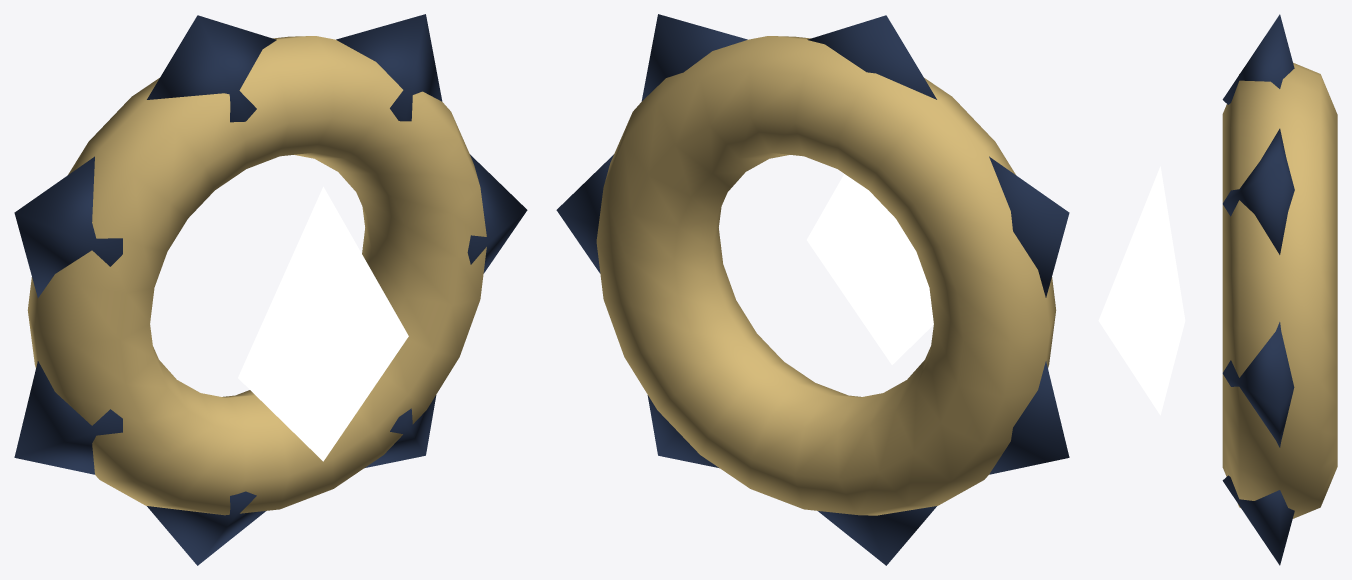
The model's file is boss_starfall_hunter_accessory_2.glb.
3 renders of one model, left to right at view 1: azimuth 30°, elevation 25°; view 2: azimuth 150°, elevation 25°; view 3: azimuth 270°, elevation 25°, orthographic. The views are drawn at different scales.
Visible parts, largest first — view 1: Boss_starfall_hunter_1, Boss_starfall_hunter_0, Boss_starfall_hunter_2; view 2: Boss_starfall_hunter_1, Boss_starfall_hunter_0, Boss_starfall_hunter_2; view 3: Boss_starfall_hunter_1, Boss_starfall_hunter_0, Boss_starfall_hunter_2.
Boxes of the visible parts, left/top/right/bottom form: Boss_starfall_hunter_1: left=27, top=36, right=486, bottom=515; Boss_starfall_hunter_0: left=14, top=14, right=527, bottom=565; Boss_starfall_hunter_2: left=238, top=186, right=408, bottom=461; Boss_starfall_hunter_1: left=596, top=36, right=1056, bottom=515; Boss_starfall_hunter_0: left=556, top=14, right=1069, bottom=565; Boss_starfall_hunter_2: left=807, top=174, right=933, bottom=364; Boss_starfall_hunter_1: left=1222, top=62, right=1337, bottom=518; Boss_starfall_hunter_0: left=1222, top=14, right=1294, bottom=565; Boss_starfall_hunter_2: left=1098, top=166, right=1185, bottom=415.
Bounding box in the file's own units: 0.1217 × 0.1248 × 0.054.
